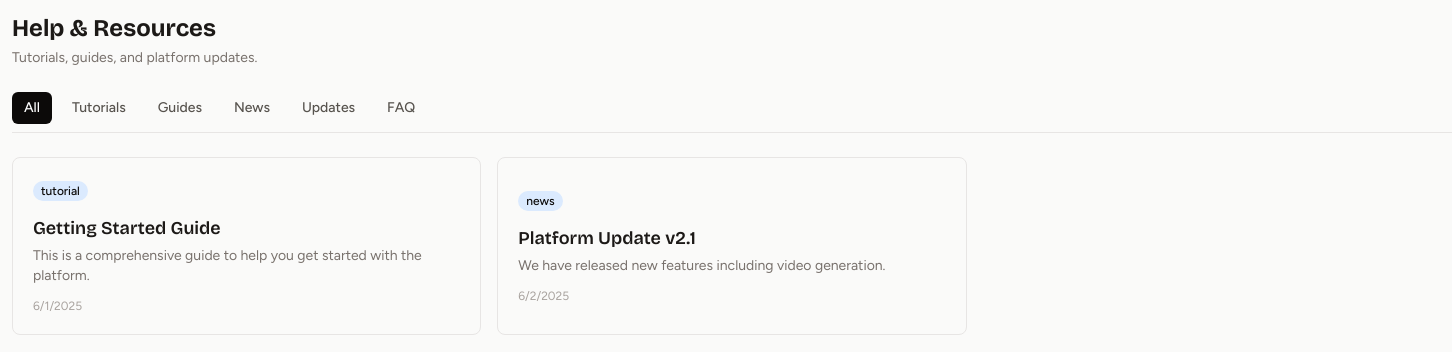
Test: ContentHub › shows empty state when no articles match category
Expected: the heading "Help & Resources" is shown, [12, 14, 216, 42]
// Click FAQ - no articles in this category
Click the button "FAQ": (401, 108) [375, 92, 427, 124]
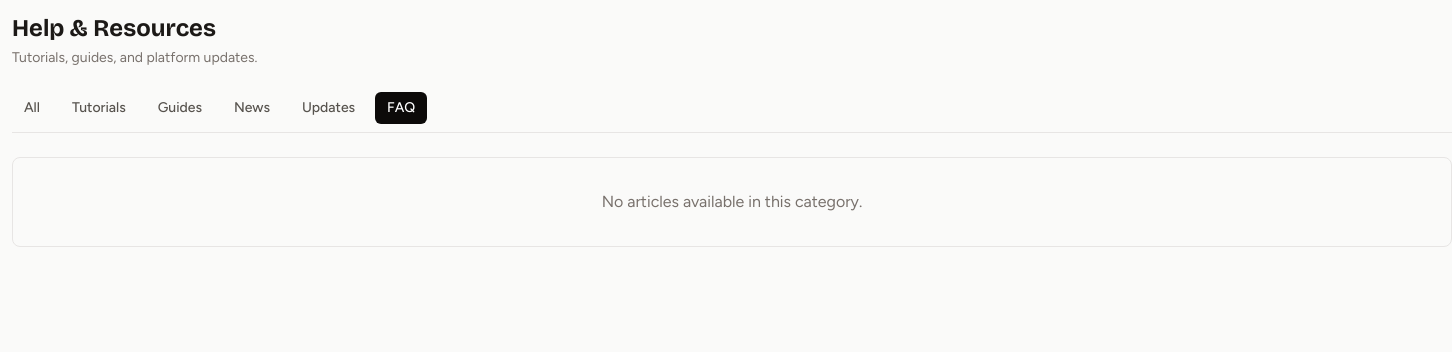
Now the text "No articles available in this category." is shown, box [602, 192, 862, 211]
